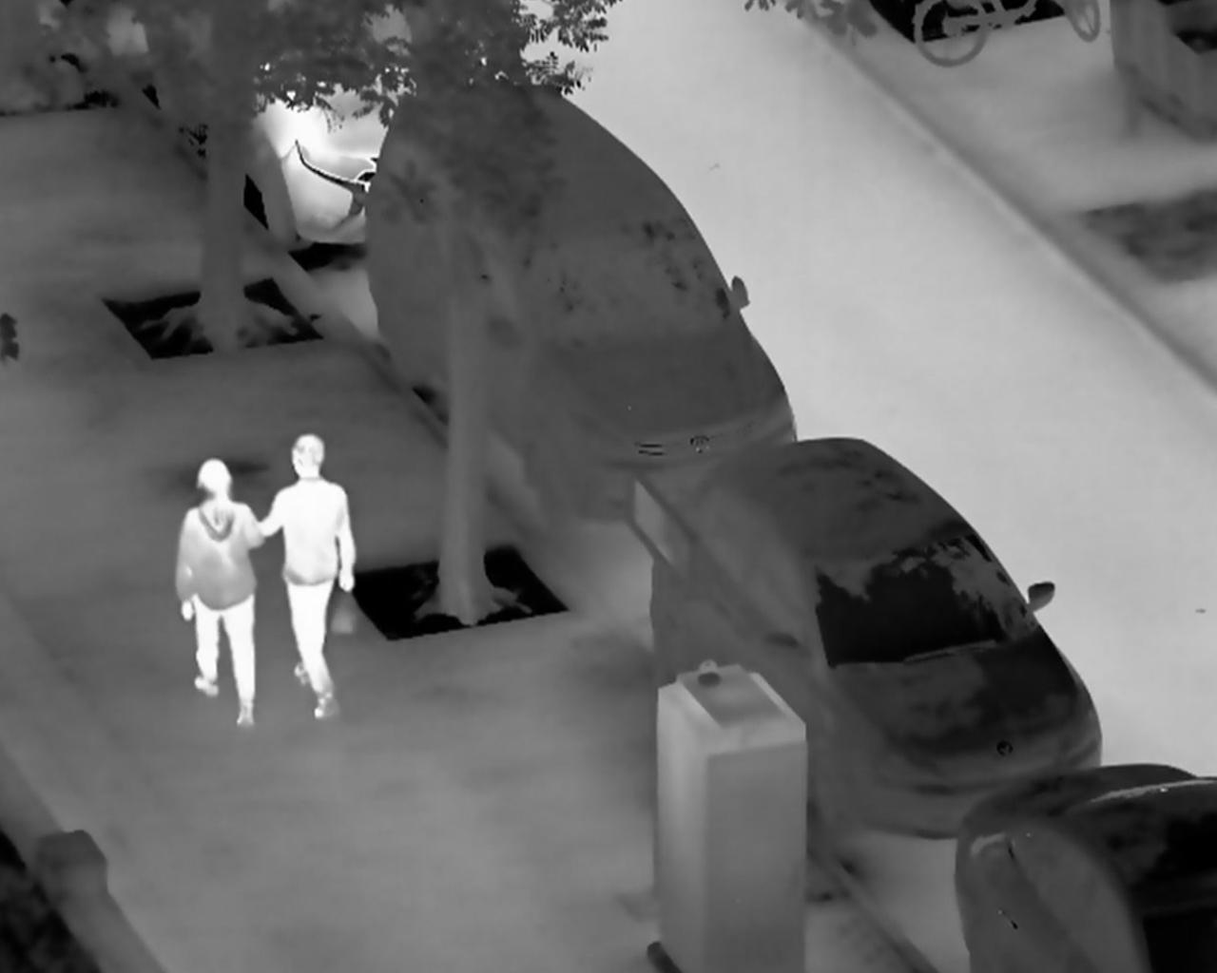person: (255, 429, 358, 724), (176, 455, 265, 731)
